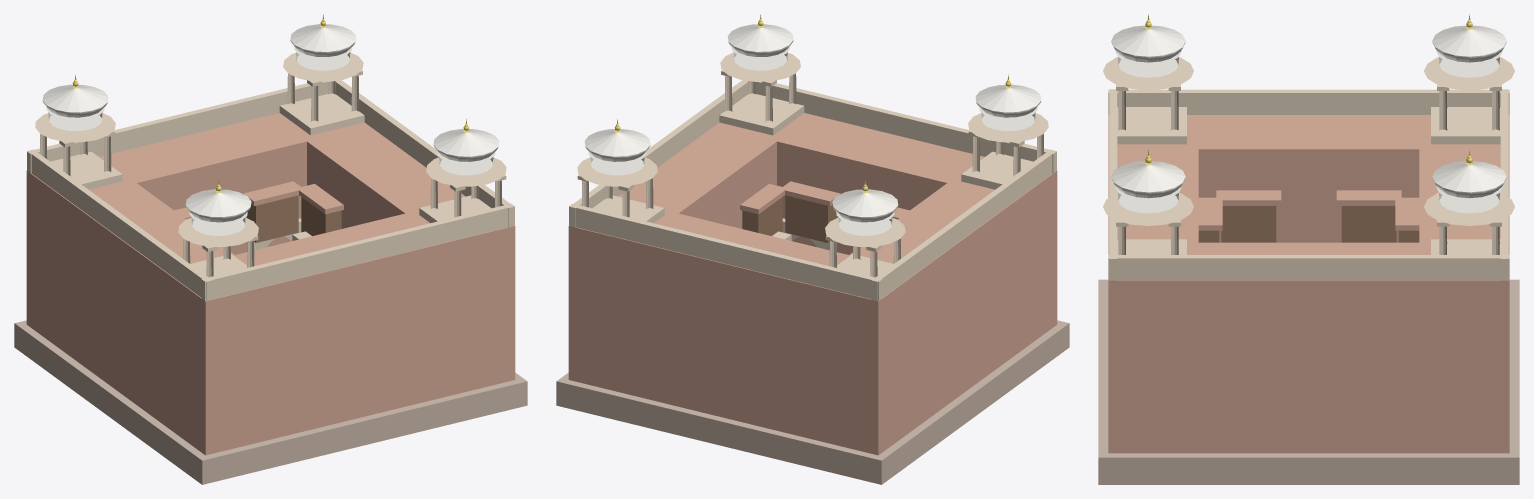
Rendered from gauhar_mahal_bhopal.glb.
3 renders of one model, left to right at view 1: azimuth 30°, elevation 25°; view 2: azimuth 150°, elevation 25°; view 3: azimuth 270°, elevation 25°, orthographic. The views are drawn at different scales.
Parts seen in each view (by area): view 1: GauharMahalBhopal_Root; view 2: GauharMahalBhopal_Root; view 3: GauharMahalBhopal_Root.
Part boxes in pixels (x1,y1,x2,y2): GauharMahalBhopal_Root: [14, 14, 527, 484]; GauharMahalBhopal_Root: [556, 14, 1069, 484]; GauharMahalBhopal_Root: [1098, 14, 1519, 484].
Bounding box in the file's own units: 2.3 × 1.89 × 2.3.
